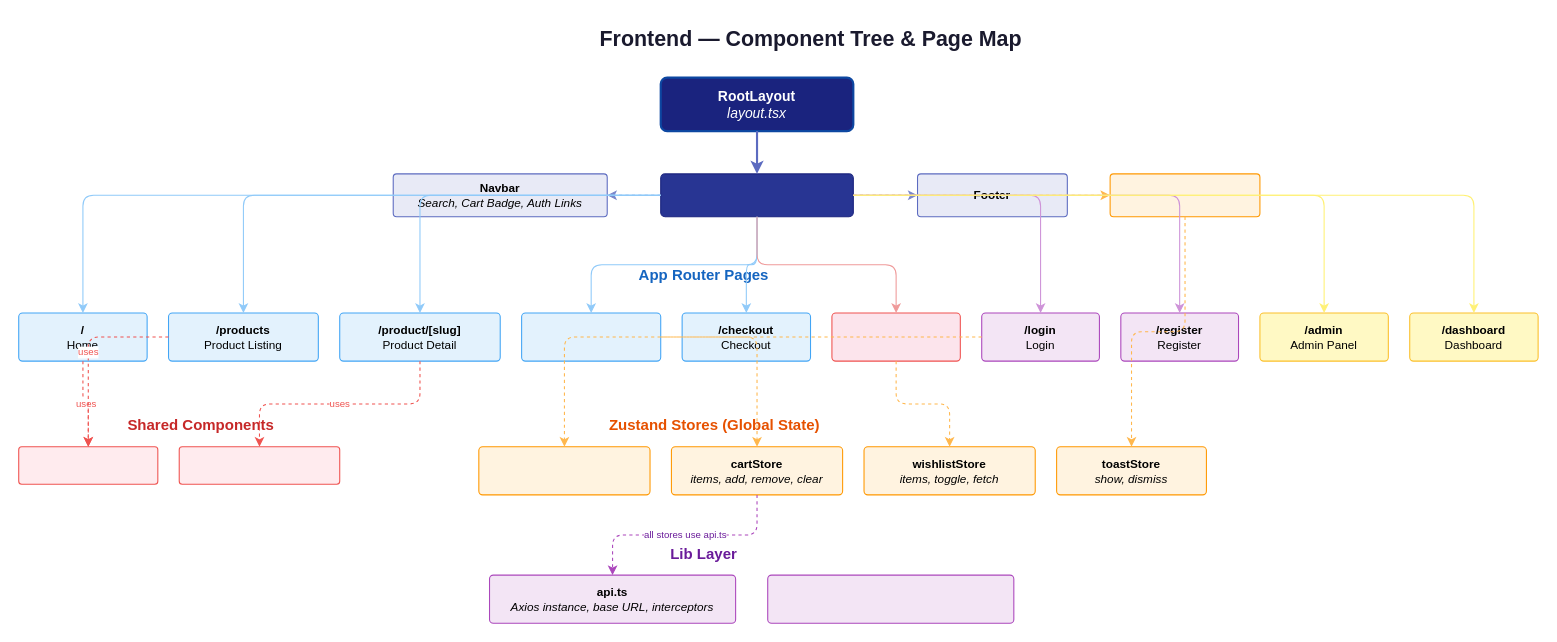
Image size: 1557x642. Some labels were removed from this diagram. The shapes that lost their labels are listed below. From the top down, each one's centre as x and y in pixels, then its label:
At [756,195]: "LayoutShell".
At [1184,195]: "ToastContainer".
At [591,336]: "/cart Shopping Cart".
At [895,336]: "/wishlist Wishlist".
At [88,465]: "ProductCard".
At [259,465]: "ProductReviews".
At [564,470]: "authStore user, token, login, logout".
At [890,598]: "utils.ts cn() helper (clsx + tailwind-merge)".
